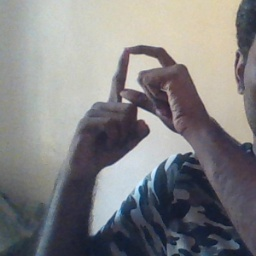D: (95, 37, 190, 143)
